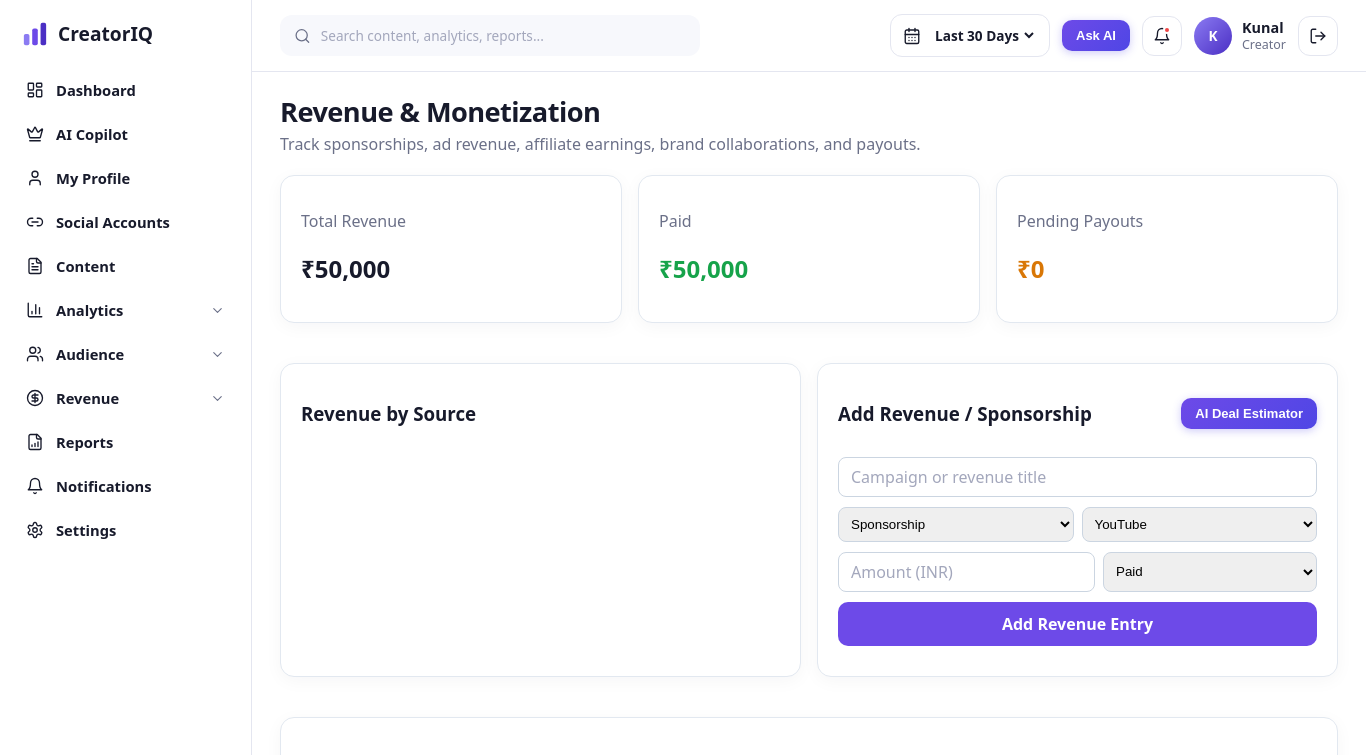
Scenario: Embedded AI & UI Integration (TDD RED) › pre-fills Revenue form using AI Deal Estimator
The image size is (1366, 755).
What coordinates should you click on to do the following:
click the button "AI Deal Estimator"
I would click on:
 (1249, 414)
Its box is [1181, 398, 1317, 429].
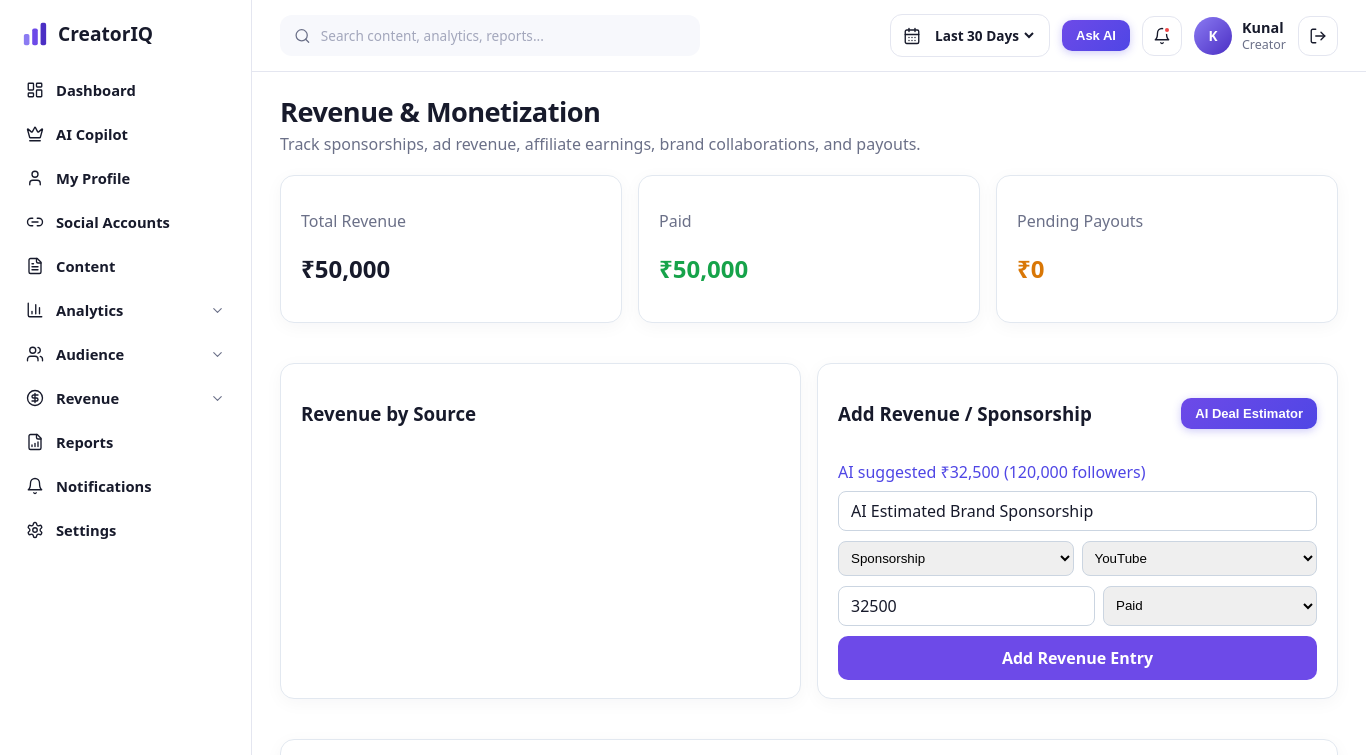
Expected: the number field with placeholder "Amount (INR)" holds "32500", [838, 586, 1095, 626]
